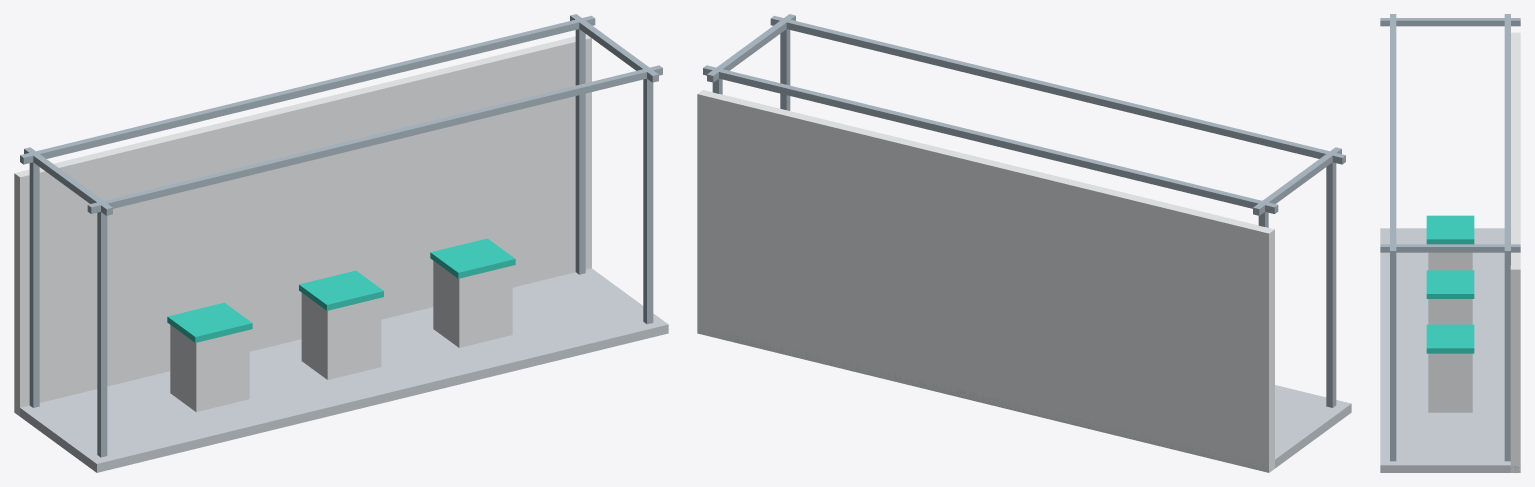
3 renders of one model, left to right at view 1: azimuth 30°, elevation 25°; view 2: azimuth 150°, elevation 25°; view 3: azimuth 270°, elevation 25°, orthographic. The views are drawn at different scales.
Parts seen in each view (by area): view 1: Exhibition Booth Concept; view 2: Exhibition Booth Concept; view 3: Exhibition Booth Concept.
Boxes of the visible parts, box(x1,y1,x2,y2) form: Exhibition Booth Concept: box(14, 14, 668, 472); Exhibition Booth Concept: box(697, 14, 1351, 472); Exhibition Booth Concept: box(1380, 14, 1520, 472).
Size of the model in its own units: 8 by 3.49 by 2.
